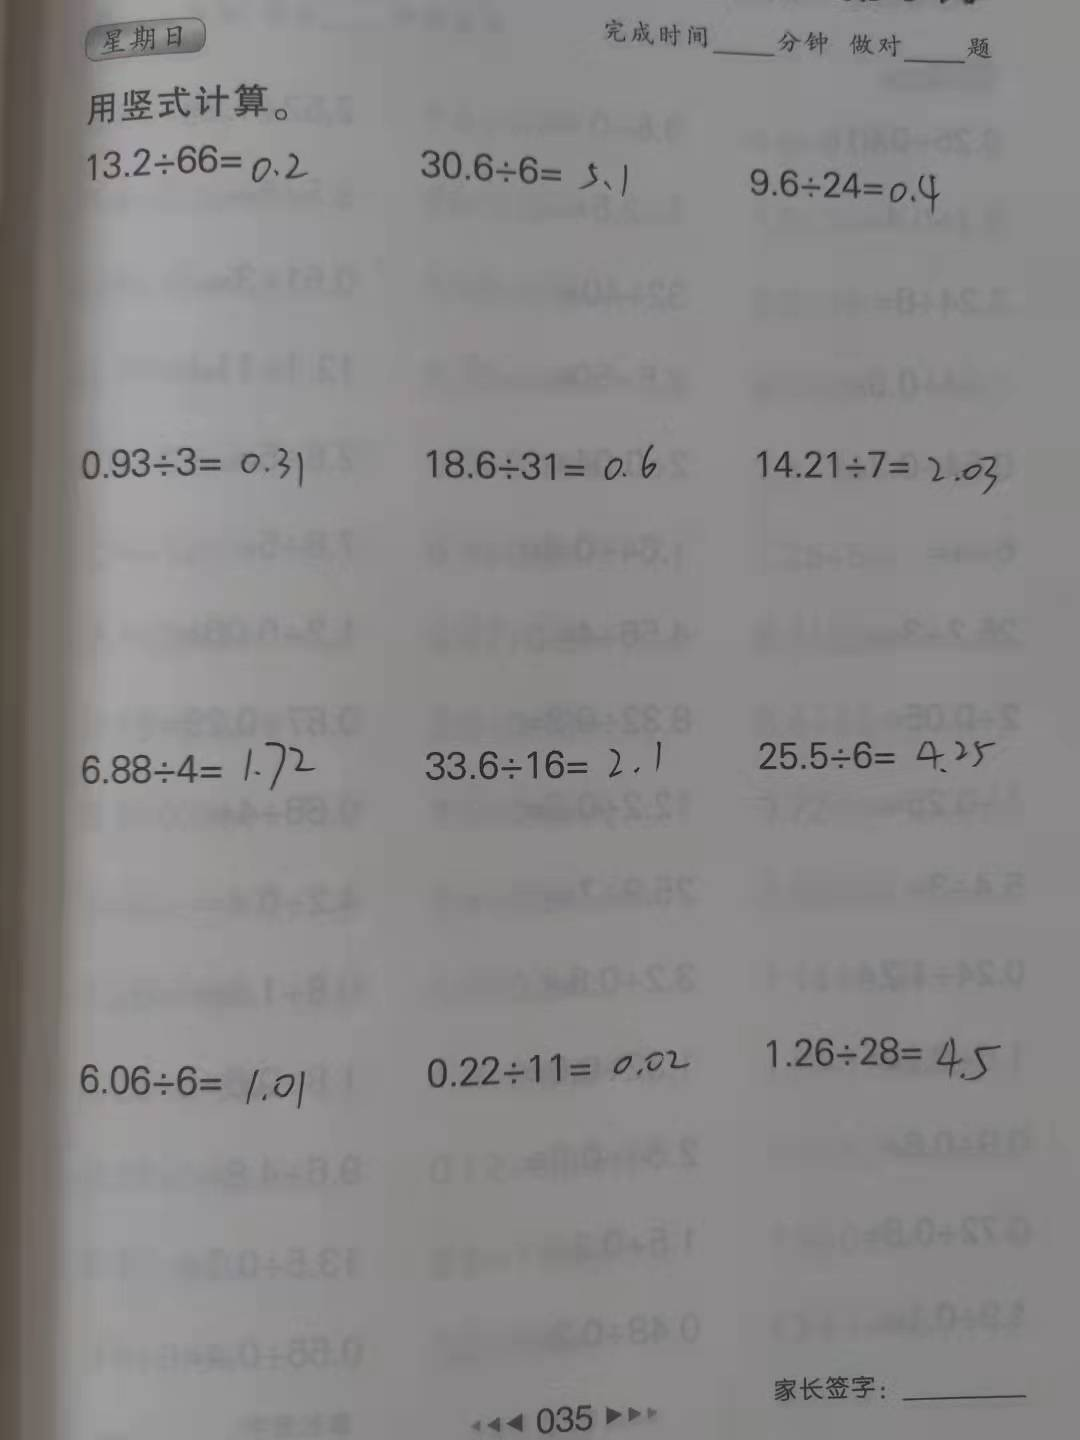equation: (754, 1020, 1004, 1094), (742, 437, 1016, 500), (750, 725, 1010, 791), (60, 1049, 315, 1117), (71, 736, 323, 804), (413, 727, 673, 791), (64, 434, 318, 497), (71, 135, 319, 196), (411, 136, 642, 201), (414, 1045, 695, 1098), (417, 434, 666, 490), (736, 158, 952, 215)
